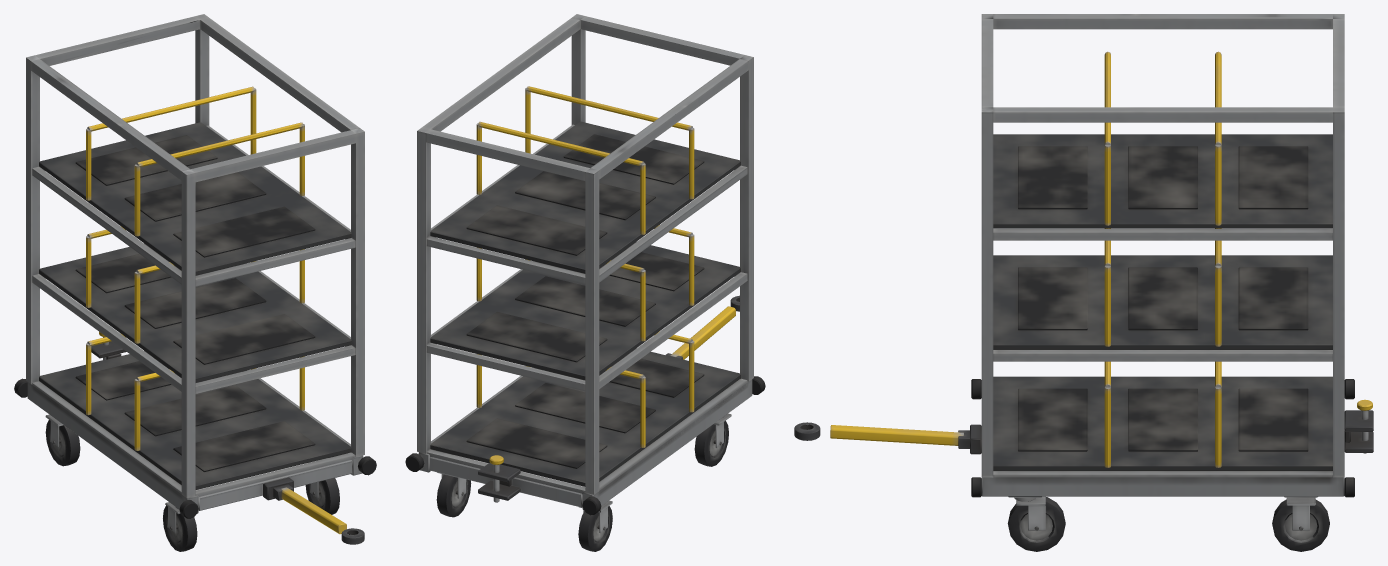
Rendered from ConsoleWagon.fbx.
The picture shows the model from 3 angles, left to right: view 1: azimuth 30°, elevation 25°; view 2: azimuth 150°, elevation 25°; view 3: azimuth 270°, elevation 25°; orthographic projection. The views are drawn at different scales.
Parts seen in each view (by area): view 1: ConsoleWagon_LOD0, Drawbar_LOD0, Wheel_RR_LOD0, Wheel_FR_LOD0, Wheel_FL_LOD0; view 2: ConsoleWagon_LOD0, Drawbar_LOD0, Wheel_RL_LOD0, Wheel_RR_LOD0, Wheel_FR_LOD0; view 3: ConsoleWagon_LOD0, Drawbar_LOD0, Wheel_FL_LOD0, Wheel_RL_LOD0, Castor_FL_LOD0.
Boxes of the visible parts, box(x1,y1,x2,y2) form: ConsoleWagon_LOD0: box(14, 14, 376, 518); Drawbar_LOD0: box(273, 484, 364, 544); Wheel_RR_LOD0: box(45, 420, 80, 466); Wheel_FR_LOD0: box(163, 505, 197, 551); Wheel_FL_LOD0: box(305, 478, 339, 514); ConsoleWagon_LOD0: box(405, 14, 765, 532); Drawbar_LOD0: box(665, 295, 739, 359); Wheel_RL_LOD0: box(436, 474, 471, 517); Wheel_RR_LOD0: box(578, 506, 612, 551); Wheel_FR_LOD0: box(694, 420, 728, 466); ConsoleWagon_LOD0: box(970, 14, 1373, 530); Drawbar_LOD0: box(794, 422, 969, 448); Wheel_FL_LOD0: box(1007, 497, 1065, 551); Wheel_RL_LOD0: box(1272, 499, 1329, 551); Castor_FL_LOD0: box(1014, 496, 1045, 530).
Size of what is drawn, in the model's own units: 0.87 by 1.7 by 2.
1 material, 1 textured.
